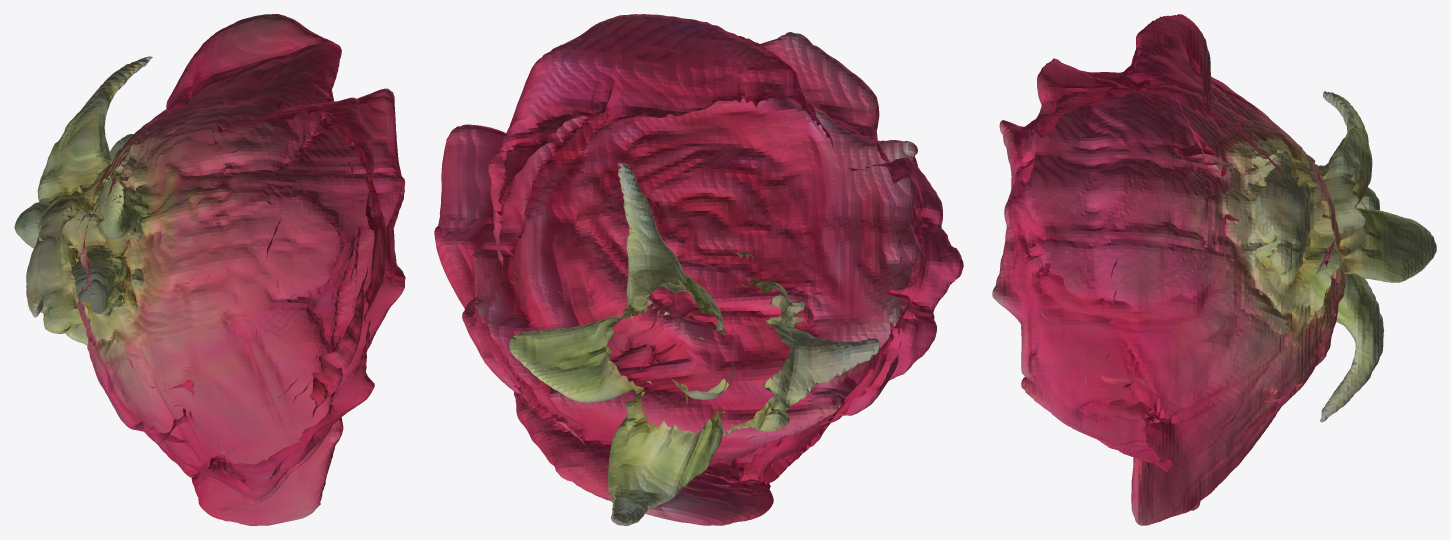
File: rose.glb
3 renders of one model, left to right at view 1: azimuth 30°, elevation 25°; view 2: azimuth 150°, elevation 25°; view 3: azimuth 270°, elevation 25°, orthographic. The views are drawn at different scales.
Visible parts, largest first — view 1: world; view 2: world; view 3: world.
Part boxes in pixels (box(x1,y1,x2,y2)): world: box(14, 14, 405, 525); world: box(434, 14, 963, 525); world: box(992, 14, 1436, 525).
Bounding box in the file's own units: 0.8253 × 0.9837 × 0.8288.
